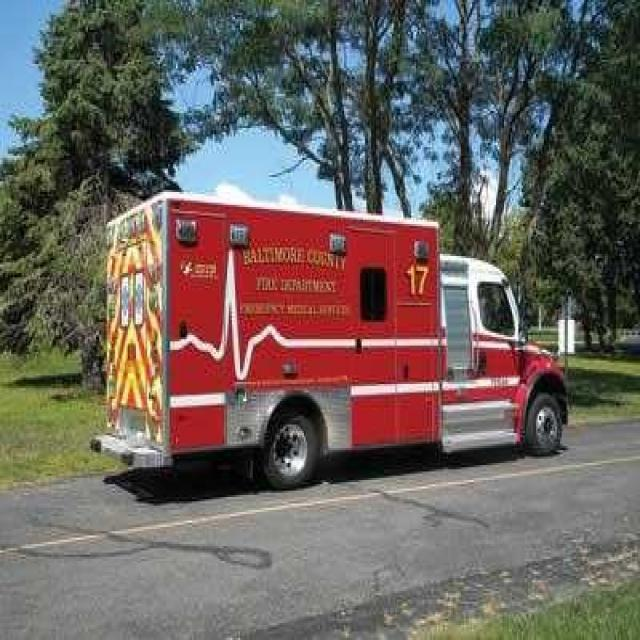emergency-vehicle: (99, 209, 578, 465)
